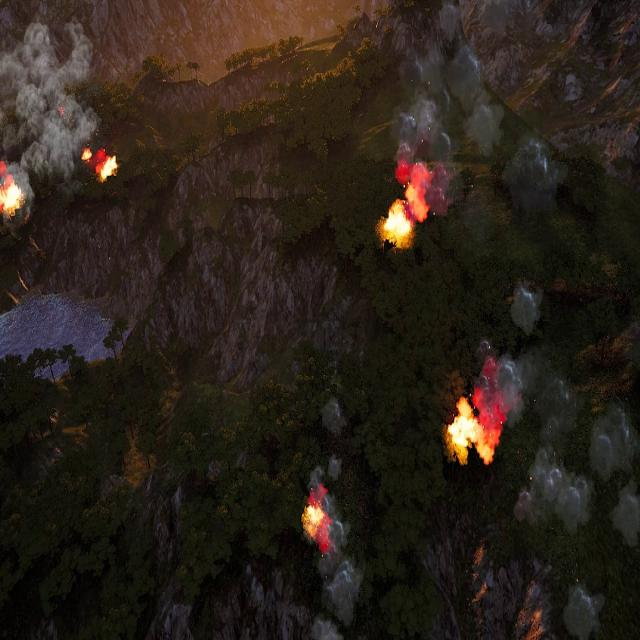fire: (383, 167, 432, 250), (443, 397, 494, 465), (302, 494, 330, 548), (0, 175, 23, 217), (91, 147, 116, 180)
smoke: (475, 284, 640, 554), (392, 0, 558, 238), (0, 19, 91, 214), (300, 386, 366, 636)
